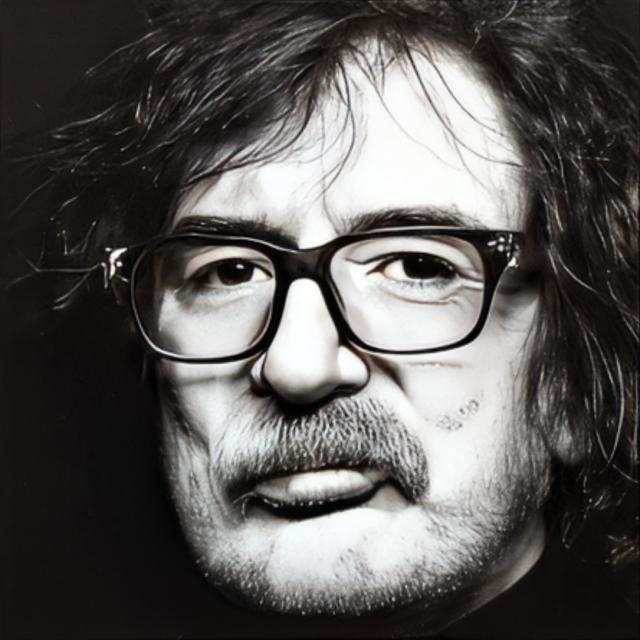neutral: (148, 27, 568, 631)
